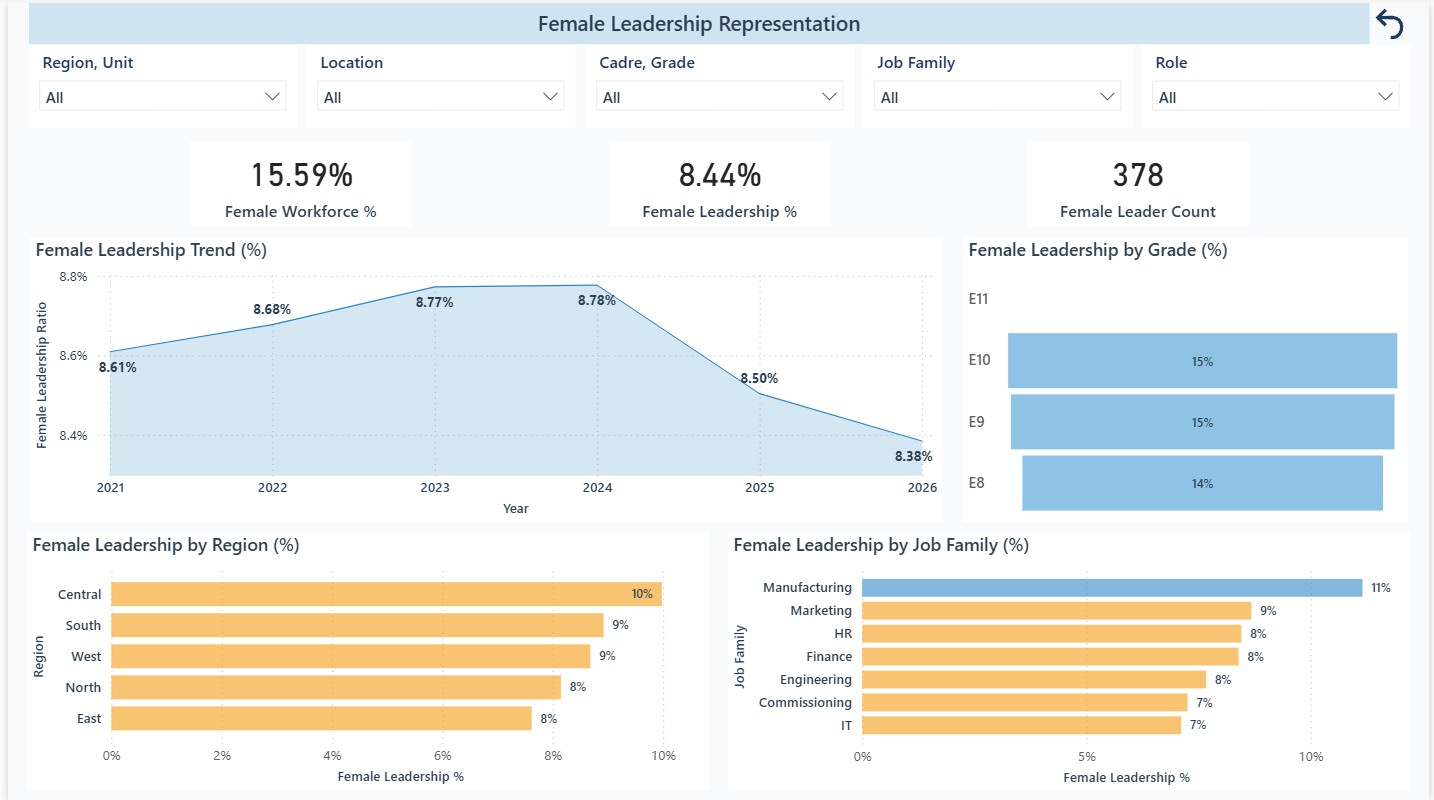

The dashboard page shown, as its layout file describes it:
{"tool":"powerbi","page":{"name":"Female Leadership Representation","canvas":[1280,720],"ordinal":3},"visuals":[{"type":"textbox","box":[18.7,0,1207.6,37.5],"z":0},{"type":"slicer","fields":{"Values":["DIM_Unit_Master.Region","DIM_Unit_Master.Unit"]},"box":[18.2,37.6,243,74.9],"z":0,"group":"g2"},{"type":"slicer","fields":{"Values":["DIM_Location_Master.Location"]},"box":[269,37.6,243,74.9],"z":1000,"group":"g2"},{"type":"group","id":"g1","title":"Group 2","box":[17.3,476.6,615,232.7],"z":1000},{"type":"group","id":"g2","title":"Group 1","box":[18.2,37.6,1244.6,75],"z":2000},{"type":"slicer","fields":{"Values":["DIM_Grade_Master.Cadre","DIM_Grade_Master.Grade"]},"box":[519.8,37.6,243,74.9],"z":2000,"group":"g2"},{"type":"slicer","fields":{"Values":["DIM_Job_Master.JOB_FAMILY"]},"box":[770.6,37.6,243,74.9],"z":3000,"group":"g2"},{"type":"card","fields":{"Values":["PR_DIV_FACT_EMPLOYEE_MASTER.Female %"]},"box":[164.3,124,200,77.3],"z":3000,"group":"g4"},{"type":"group","id":"g3","title":"Group 2","box":[648.7,476.6,615.2,232.7],"z":3000},{"type":"actionButton","box":[1226.3,0,37.5,37.5],"z":4000},{"type":"slicer","fields":{"Values":["DIM_Role_Master.ROLE_NAME"]},"box":[1021.4,37.6,243,74.9],"z":4000,"group":"g2"},{"type":"lineChart","title":"Female Leadership Trend (%)","fields":{"Category":["DIM_DATE_TABLE.Date Hierarchy.Year"],"Y":["DIM_DATE_TABLE.Female Leadership Ratio as on Date"]},"box":[20,210.7,822.8,257.1],"z":5000},{"type":"barChart","title":"Female Leadership by Region (%)","fields":{"Y":["PR_DIV_FACT_EMPLOYEE_MASTER.Female Leadership %"],"Category":["DIM_Unit_Master.Region"]},"box":[17.3,476.6,615,232.7],"z":5001,"group":"g1"},{"type":"barChart","title":"Female Leadership by Job Family (%)","fields":{"Y":["PR_DIV_FACT_EMPLOYEE_MASTER.Female Leader Ratio"],"Category":["DIM_Job_Master.Job Family"]},"box":[648.7,476.6,614.7,232.9],"z":5001,"group":"g3"},{"type":"card","fields":{"Values":["PR_DIV_FACT_EMPLOYEE_MASTER.Female Leader"]},"box":[918.6,124,200,77.3],"z":6000,"group":"g4"},{"type":"funnel","title":"Female Leadership by Grade (%)","fields":{"Category":["DIM_Grade_Master.Grade"],"Y":["PR_DIV_FACT_EMPLOYEE_MASTER.Female Ratio"]},"box":[860.7,210.7,401.4,257.1],"z":6000},{"type":"group","id":"g4","title":"Group 4","box":[164.3,124,954.3,77.3],"z":7000},{"type":"card","fields":{"Values":["DIM_DATE_TABLE.Female Leadership Ratio as on Date"]},"box":[541.4,124,200,77.3],"z":7000,"group":"g4"}]}

Visuals, with their boxes in screenshot pixels (x1, y1, x2, y2), scaled from the page's 1280x720 canvas onto the 1434x800 screenshot:
textbox: <bbox>21, 0, 1374, 42</bbox>
slicer - DIM_Unit_Master.Region x DIM_Unit_Master.Unit: <bbox>20, 42, 293, 125</bbox>
slicer - DIM_Location_Master.Location: <bbox>301, 42, 574, 125</bbox>
"Group 2" group: <bbox>19, 530, 708, 788</bbox>
"Group 1" group: <bbox>20, 42, 1415, 125</bbox>
slicer - DIM_Grade_Master.Cadre x DIM_Grade_Master.Grade: <bbox>582, 42, 855, 125</bbox>
slicer - DIM_Job_Master.JOB_FAMILY: <bbox>863, 42, 1136, 125</bbox>
card - PR_DIV_FACT_EMPLOYEE_MASTER.Female %: <bbox>184, 138, 408, 224</bbox>
"Group 2" group: <bbox>727, 530, 1416, 788</bbox>
actionButton: <bbox>1374, 0, 1416, 42</bbox>
slicer - DIM_Role_Master.ROLE_NAME: <bbox>1144, 42, 1417, 125</bbox>
"Female Leadership Trend (%)" lineChart: <bbox>22, 234, 944, 520</bbox>
"Female Leadership by Region (%)" barChart: <bbox>19, 530, 708, 788</bbox>
"Female Leadership by Job Family (%)" barChart: <bbox>727, 530, 1415, 788</bbox>
card - PR_DIV_FACT_EMPLOYEE_MASTER.Female Leader: <bbox>1029, 138, 1253, 224</bbox>
"Female Leadership by Grade (%)" funnel: <bbox>964, 234, 1414, 520</bbox>
"Group 4" group: <bbox>184, 138, 1253, 224</bbox>
card - DIM_DATE_TABLE.Female Leadership Ratio as on Date: <bbox>607, 138, 831, 224</bbox>
